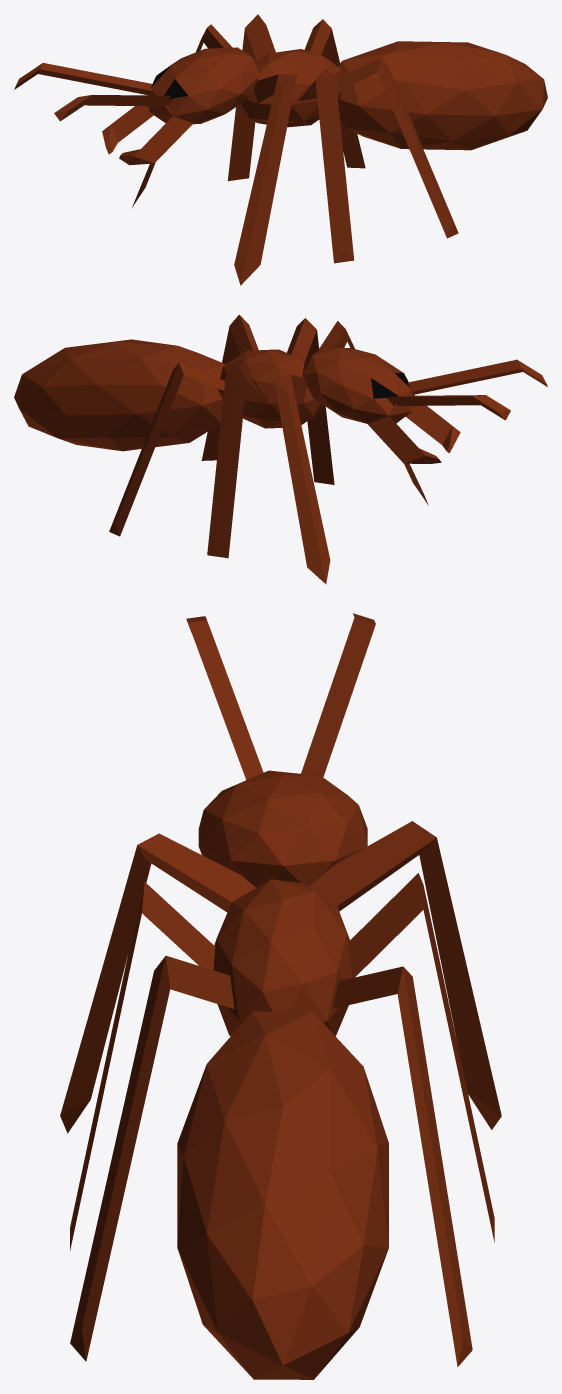
File: fourmi.fbx
3 renders of one model, top to bottom at view 1: azimuth 30°, elevation 25°; view 2: azimuth 150°, elevation 25°; view 3: azimuth 270°, elevation 25°, orthographic. The views are drawn at different scales.
Parts seen in each view (by area): view 1: Icosphere.001, Icosphere, Icosphere.002; view 2: Icosphere.001, Icosphere, Icosphere.002; view 3: Icosphere.001, Icosphere, Icosphere.002.
Boxes of the visible parts, x1=… form: Icosphere.001: x1=132, y1=14, x2=458, y2=285; Icosphere: x1=338, y1=41, x2=547, y2=150; Icosphere.002: x1=14, y1=47, x2=259, y2=165; Icosphere.001: x1=109, y1=314, x2=428, y2=584; Icosphere: x1=14, y1=339, x2=225, y2=451; Icosphere.002: x1=302, y1=347, x2=547, y2=463; Icosphere.001: x1=60, y1=821, x2=501, y2=1366; Icosphere: x1=177, y1=1011, x2=388, y2=1379; Icosphere.002: x1=186, y1=613, x2=375, y2=887.
Bounding box in the file's own units: 7.09 × 19.07 × 7.3.
